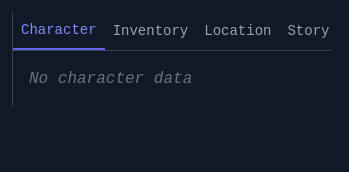
Test: Sidebar › renders Location tab with null game state shows no location data
Click the button "Location".
click(238, 31)  # box [196,12,280,50]
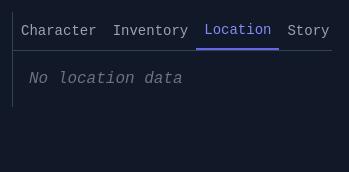
Result: the text "No location data" is shown at [29,70,183,88]
